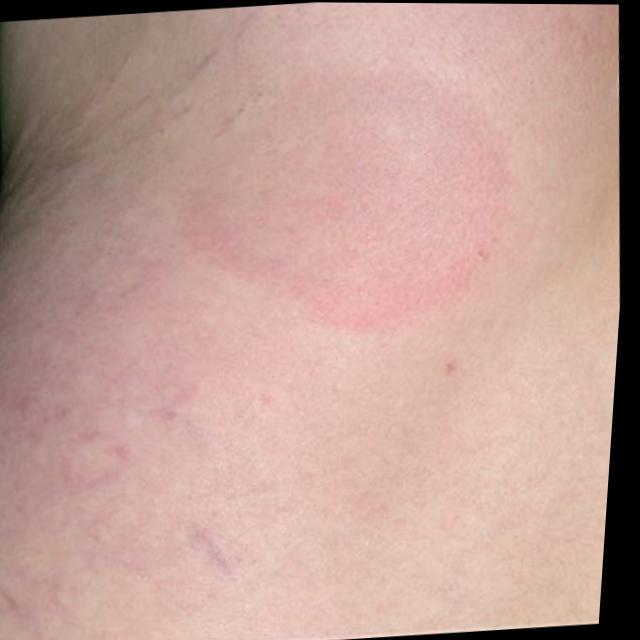Erythema chronicum migrans: (191, 98, 552, 324)
